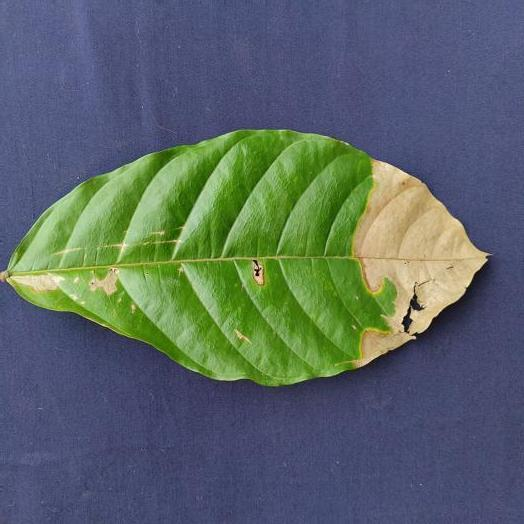Potassium: (5, 130, 485, 385)
